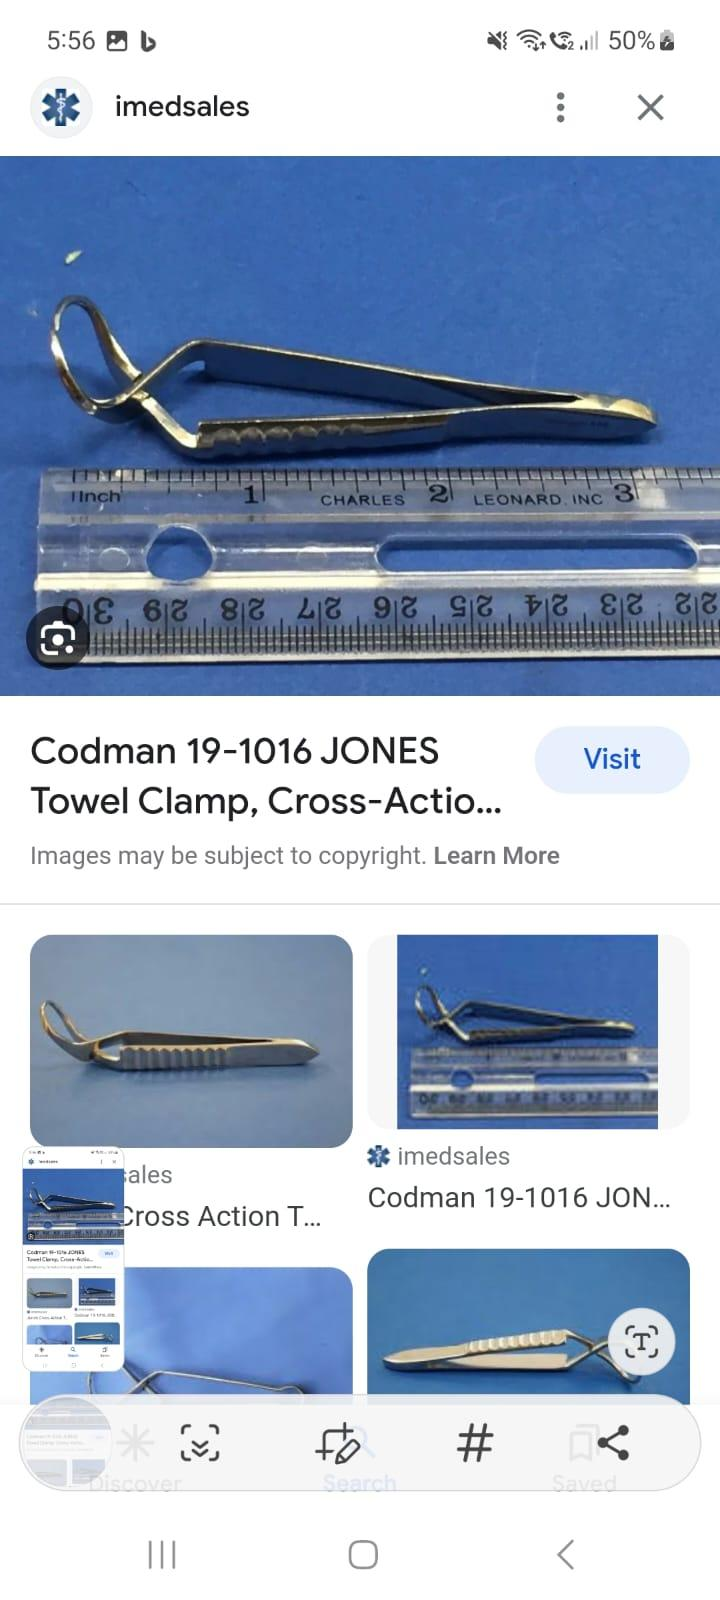Jones Towel Clamp: (48, 283, 670, 462), (40, 988, 343, 1080), (405, 965, 645, 1055)
